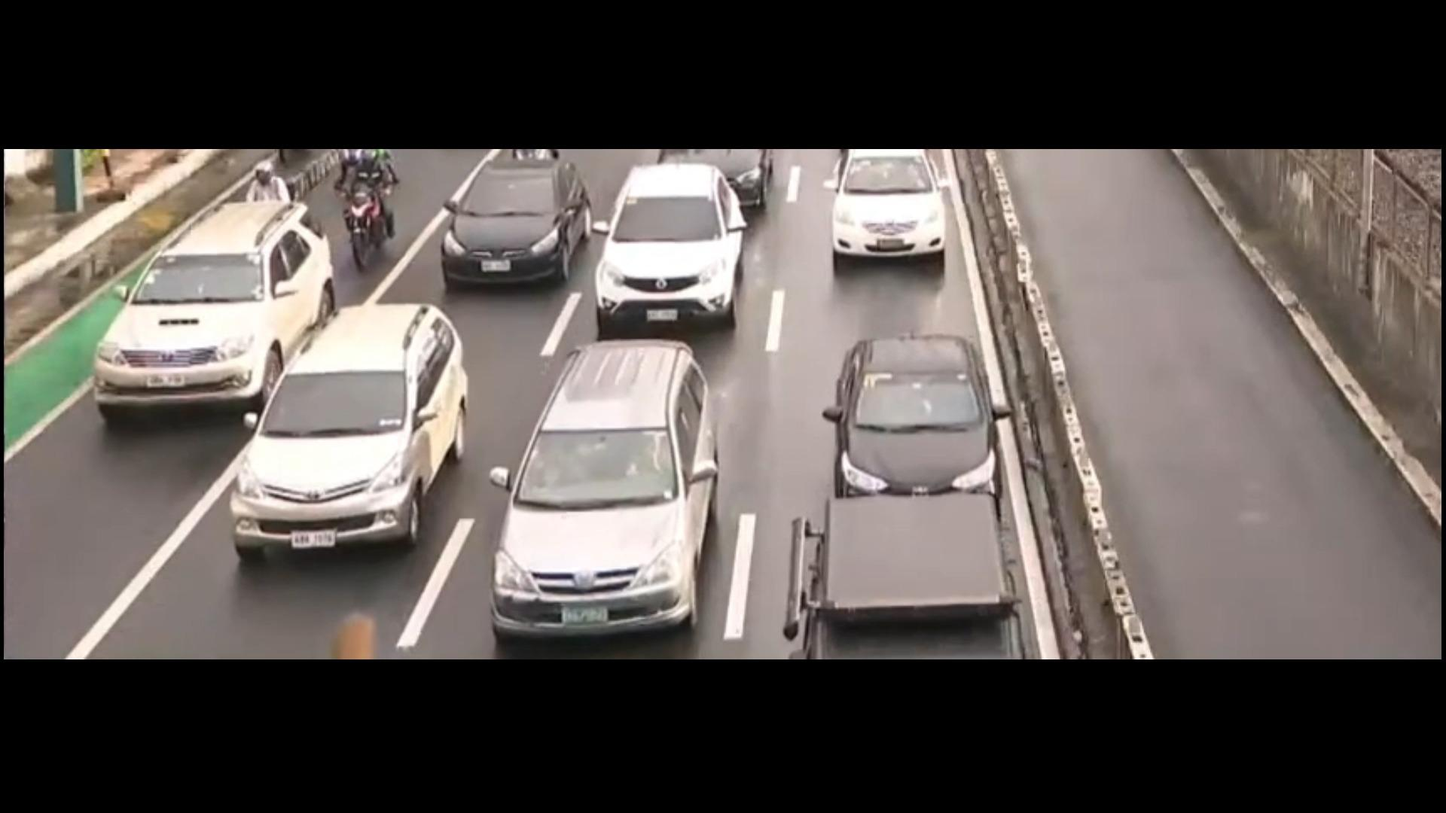Motorcycle: (343, 143, 401, 267)
SUV: (489, 332, 761, 633), (215, 305, 494, 566), (88, 198, 334, 435), (759, 492, 1061, 661), (582, 170, 772, 346)
Sedan: (808, 322, 1023, 514), (817, 143, 970, 283), (433, 151, 590, 282)
